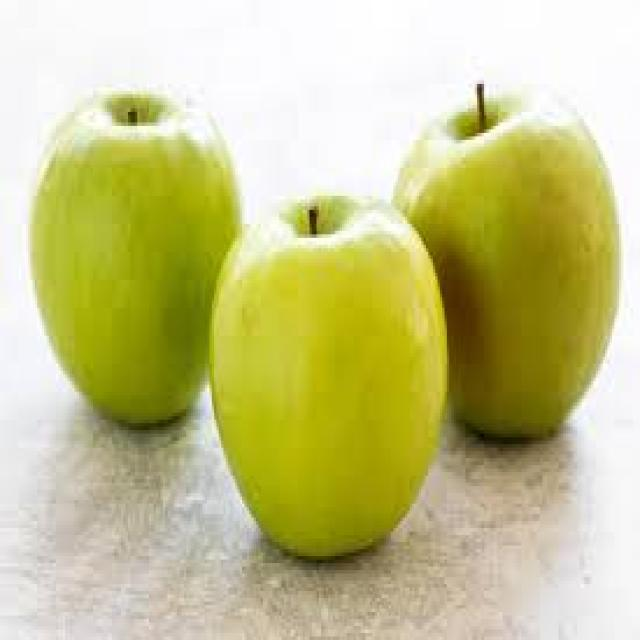apple: (199, 190, 458, 570)
